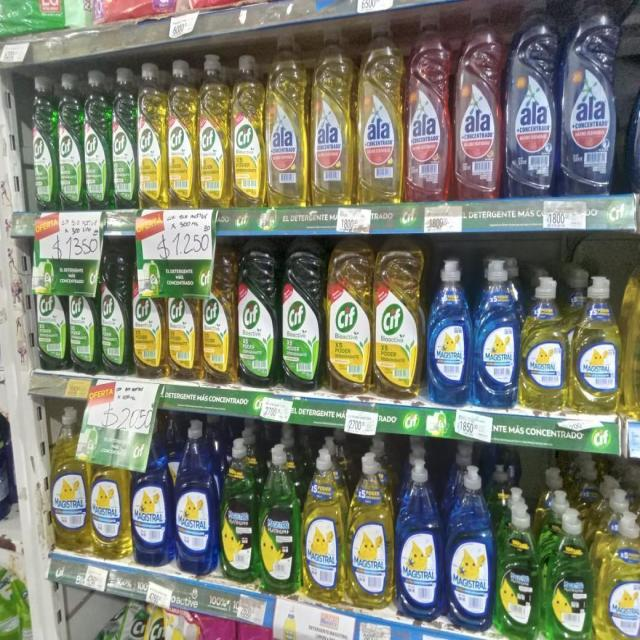ala_conc_amarillo: (357, 20, 404, 204), (310, 26, 355, 207), (266, 32, 308, 208)
ala_conc_azul: (561, 0, 620, 196), (504, 0, 557, 199), (628, 0, 639, 195)
ala_conc_rojo: (454, 14, 503, 202), (405, 13, 452, 204)
cif_conc_bot_amarilla: (373, 247, 422, 399), (326, 245, 372, 395), (231, 52, 264, 208), (198, 53, 229, 209), (203, 242, 236, 384), (167, 58, 197, 209), (132, 244, 165, 379), (138, 61, 166, 210), (167, 295, 201, 381)
cif_conc_botella_verde: (280, 242, 324, 391), (238, 244, 278, 387), (34, 242, 66, 372), (100, 238, 130, 376), (69, 244, 98, 374), (30, 74, 57, 212), (84, 69, 110, 211), (112, 66, 136, 211), (58, 72, 82, 211)
cif_conc_sachet_amarillo: (166, 606, 196, 640), (146, 604, 164, 640)
cif_conc_sachet_verde: (0, 0, 34, 35), (120, 600, 145, 640)
drive: (200, 616, 236, 640), (237, 622, 274, 640)
magistral_con_amarillo: (570, 274, 622, 414), (348, 453, 394, 610), (303, 448, 346, 603), (520, 274, 568, 412), (49, 406, 89, 553), (90, 421, 130, 561), (597, 513, 640, 640), (626, 248, 640, 418)
magistral_con_azul: (446, 463, 494, 632), (396, 455, 443, 622), (426, 257, 472, 407), (474, 258, 519, 410), (175, 418, 218, 576), (132, 420, 172, 567)
magistral_con_verde: (545, 507, 593, 640), (497, 498, 541, 640)
